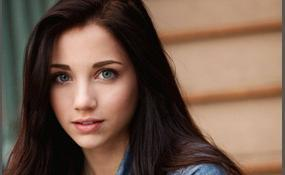face: (50, 24, 135, 148)
